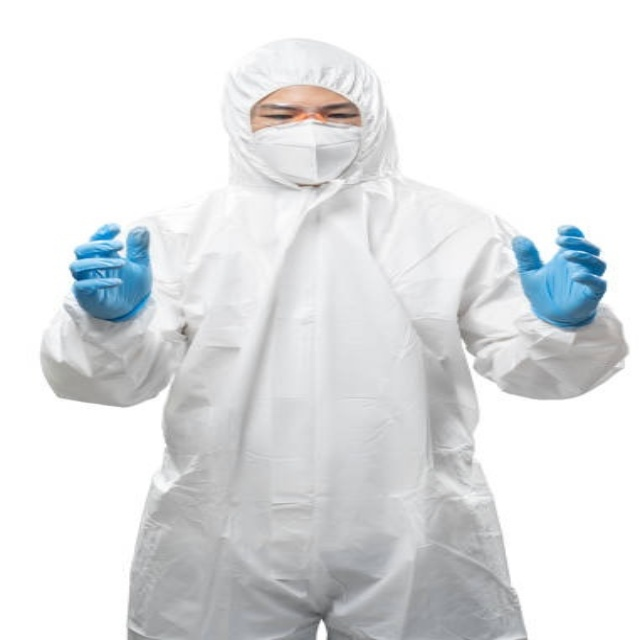Gafas: (252, 100, 358, 129)
Guantes: (510, 225, 608, 329), (70, 221, 155, 323)
Mascara: (247, 120, 364, 185)
